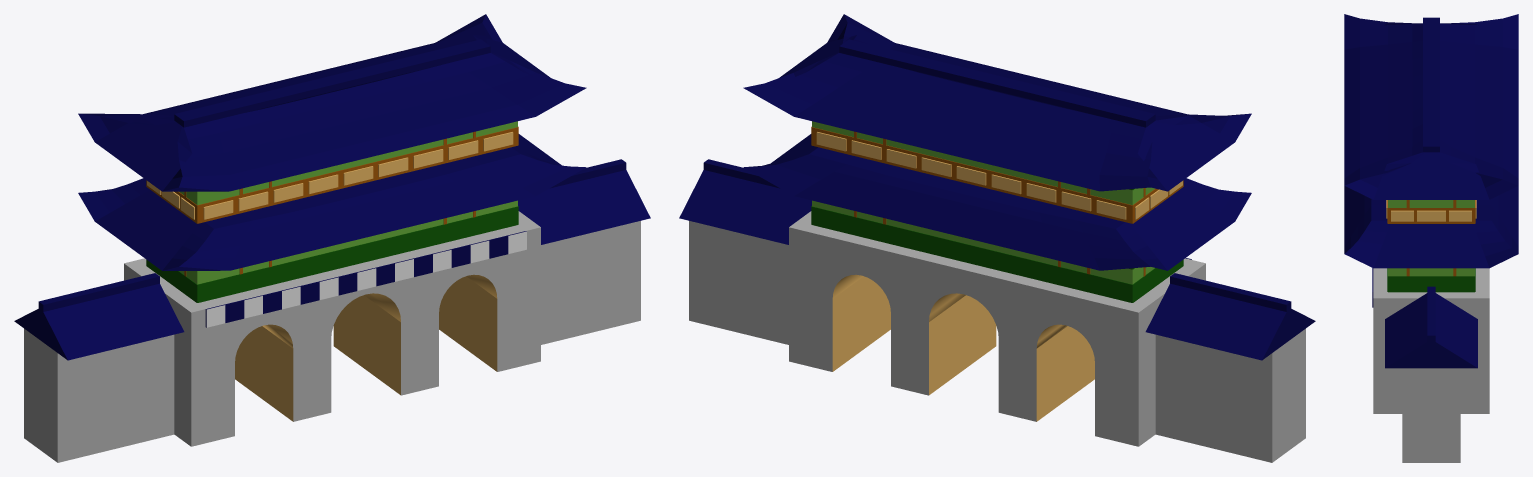
Rendered from Gwanghwamun.glb.
3 renders of one model, left to right at view 1: azimuth 30°, elevation 25°; view 2: azimuth 150°, elevation 25°; view 3: azimuth 270°, elevation 25°, orthographic. The views are drawn at different scales.
Visible parts, largest first — view 1: Text; view 2: Text; view 3: Text.
Part boxes in pixels (x1=…): Text: x1=14, y1=14, x2=650, y2=462; Text: x1=679, y1=14, x2=1315, y2=462; Text: x1=1344, y1=14, x2=1518, y2=462.
Bounding box in the file's own units: 10 × 4.91 × 3.
